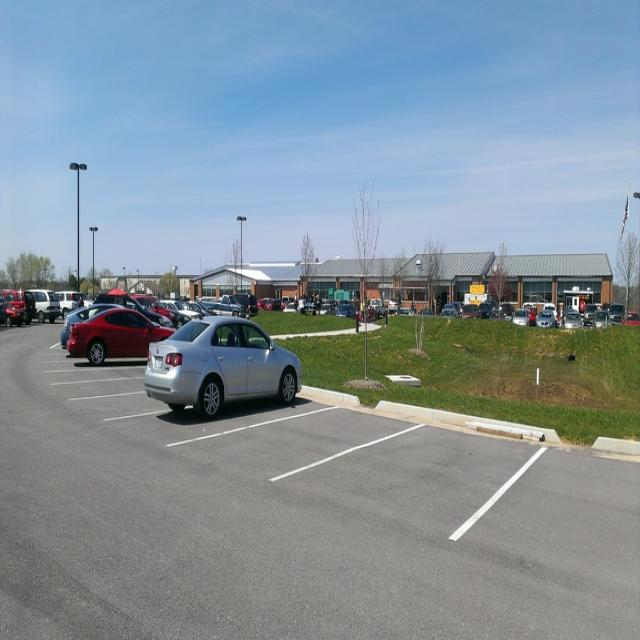car: (143, 310, 302, 420)
